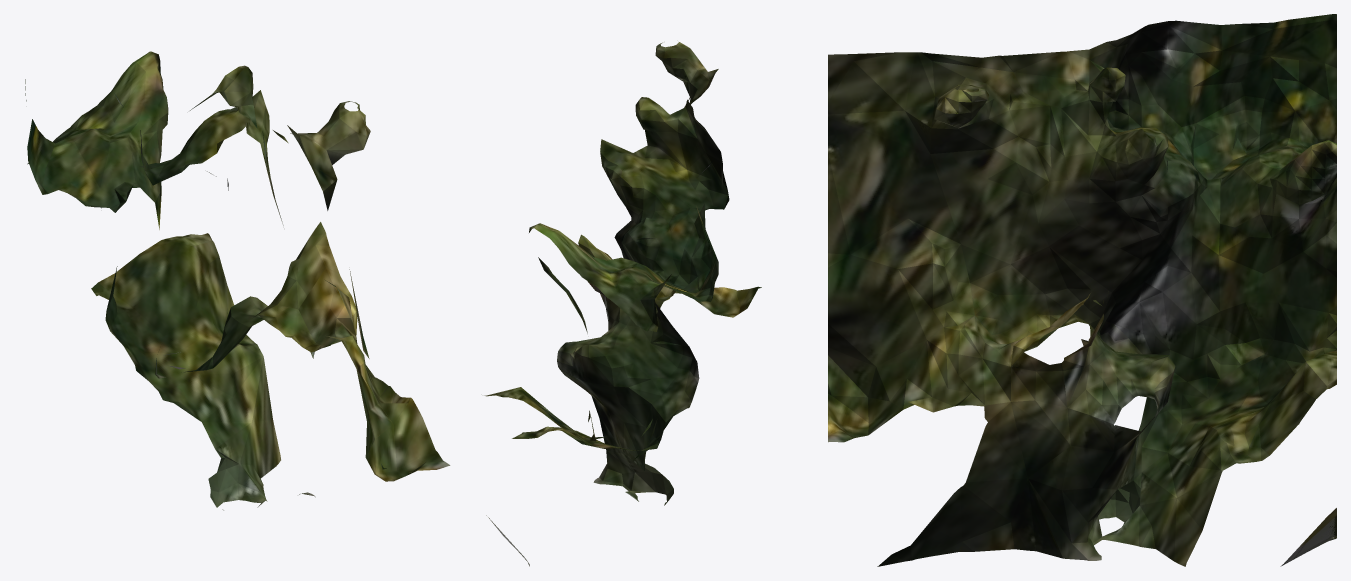
3 views of the same model, side by side, from view 1: azimuth 30°, elevation 25°; view 2: azimuth 150°, elevation 25°; view 3: azimuth 270°, elevation 25° (orthographic). The views are drawn at different scales.
Bounding box in the file's own units: 0.8741 × 1.67 × 1.67.
4 materials, 4 textured.
